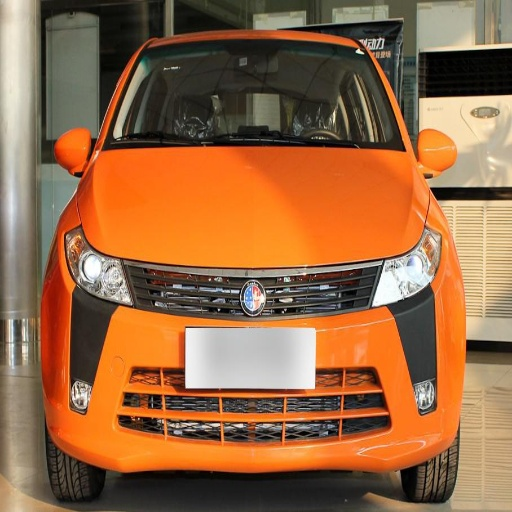front_bumper: (45, 259, 464, 470)
front_right_light: (66, 228, 138, 307)
hood: (77, 150, 426, 267)
left_mirror: (418, 127, 456, 177)
